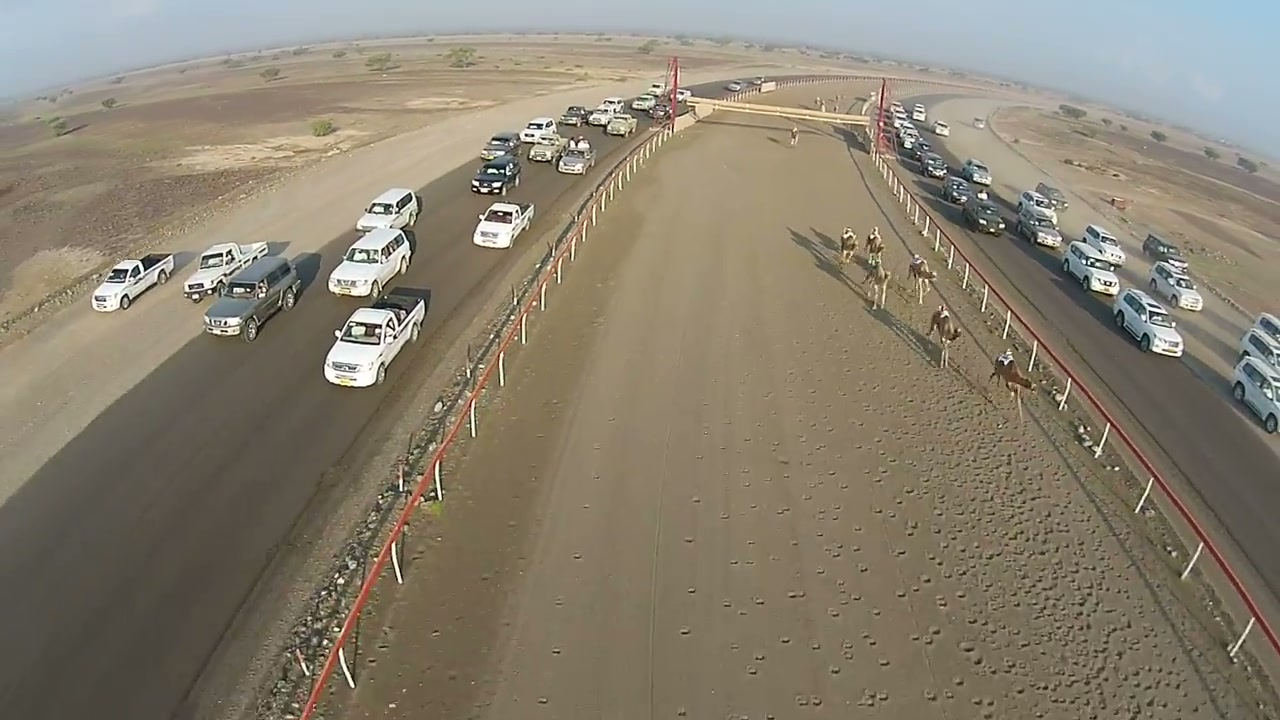animal_foot_print: (848, 311, 1188, 717), (713, 418, 913, 719)
